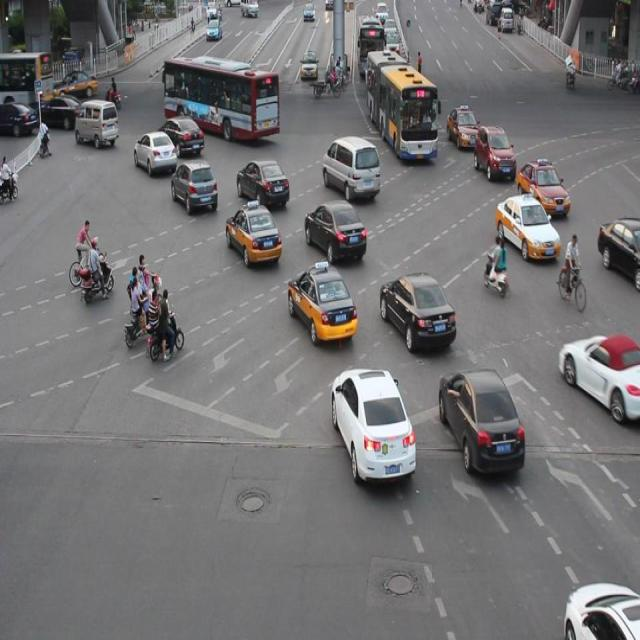BigCar: (158, 29, 289, 142), (360, 33, 449, 171)
car: (323, 368, 423, 492), (442, 360, 534, 484), (378, 262, 478, 372), (556, 312, 640, 412), (555, 550, 640, 640), (288, 254, 361, 340), (218, 195, 278, 287), (238, 158, 305, 228), (599, 193, 640, 298), (518, 149, 578, 218), (325, 122, 380, 196), (308, 178, 360, 256), (502, 198, 557, 264), (72, 101, 125, 159), (177, 151, 211, 237), (442, 94, 482, 164), (138, 120, 165, 212), (482, 118, 511, 196), (162, 113, 224, 148)
